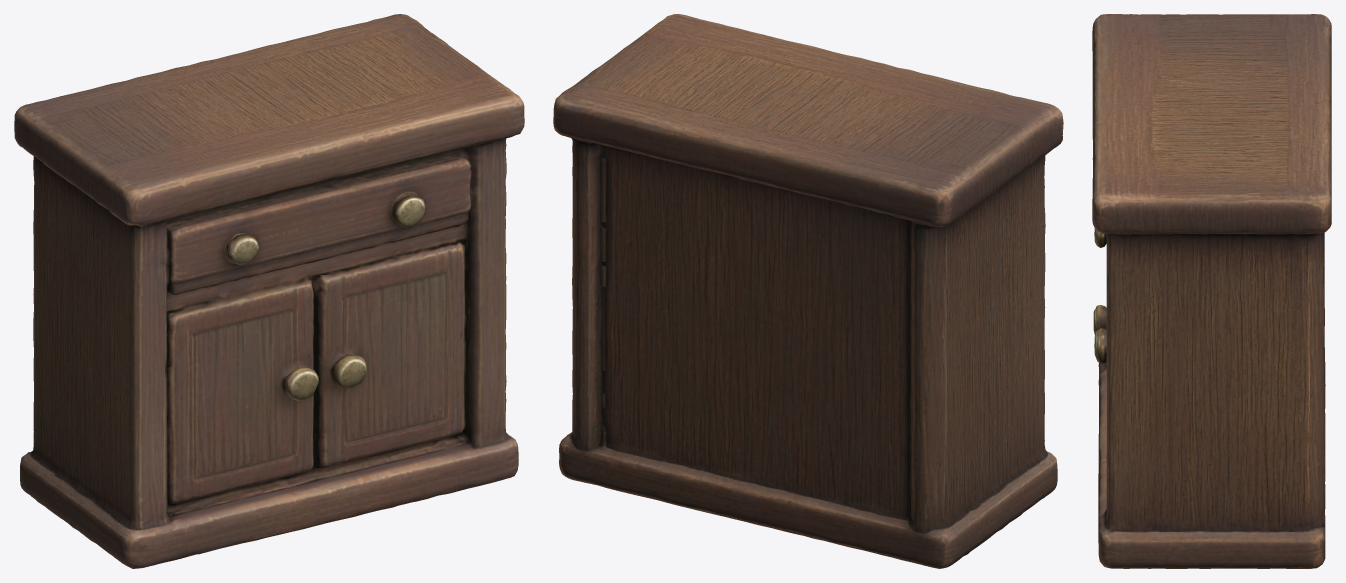
The model's file is Furn_Sideboard.fbx.
3 renders of one model, left to right at view 1: azimuth 30°, elevation 25°; view 2: azimuth 150°, elevation 25°; view 3: azimuth 270°, elevation 25°, orthographic. The views are drawn at different scales.
Visible parts, largest first — view 1: texture_mapping; view 2: texture_mapping; view 3: texture_mapping.
Part boxes in pixels (x1=…): texture_mapping: x1=14, y1=14, x2=524, y2=568; texture_mapping: x1=553, y1=14, x2=1063, y2=568; texture_mapping: x1=1092, y1=14, x2=1331, y2=568.
Bounding box in the file's own units: 1 × 0.5349 × 0.9256.
1 material, 1 textured.
